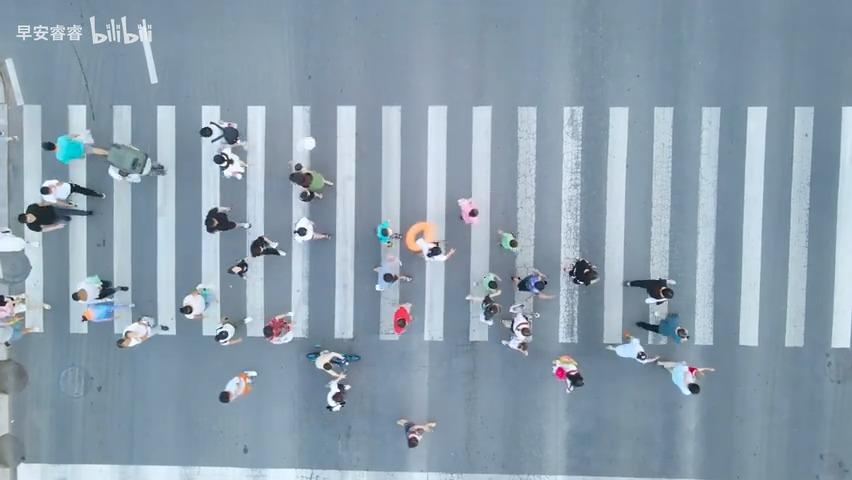Civilian: (103, 133, 175, 193), (41, 131, 108, 164), (655, 359, 715, 395), (500, 303, 539, 356), (604, 330, 660, 365), (40, 178, 105, 207), (635, 311, 690, 344), (288, 162, 333, 202), (305, 349, 360, 379), (71, 274, 128, 302), (18, 202, 71, 232), (623, 277, 676, 305), (372, 255, 413, 291), (510, 270, 557, 300), (179, 283, 217, 320), (204, 205, 251, 234), (218, 369, 257, 403), (464, 290, 501, 325), (551, 354, 584, 393), (213, 145, 248, 180), (116, 316, 154, 348), (396, 418, 436, 448), (214, 315, 252, 345), (465, 272, 502, 300), (199, 120, 240, 145), (293, 216, 332, 242), (563, 257, 599, 285), (414, 237, 456, 261), (262, 312, 293, 344), (324, 376, 351, 412), (250, 235, 286, 257), (376, 219, 402, 247), (81, 302, 114, 322), (0, 294, 25, 319), (393, 302, 413, 333), (457, 197, 479, 224), (496, 228, 519, 253), (226, 258, 248, 278)
